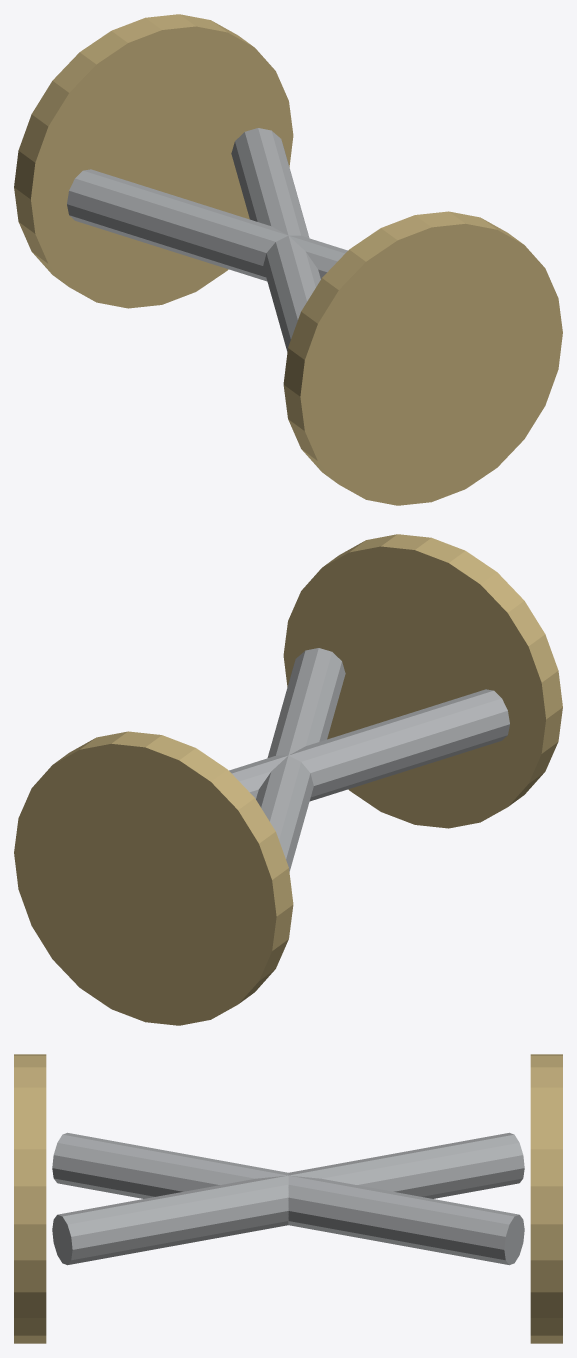
3 renders of one model, top to bottom at view 1: azimuth 30°, elevation 25°; view 2: azimuth 150°, elevation 25°; view 3: azimuth 270°, elevation 25°, orthographic. The views are drawn at different scales.
Parts seen in each view (by area): view 1: geometry_0; view 2: geometry_0; view 3: geometry_0.
Boxes of the visible parts, x1,y1,x2,y2 form: geometry_0: (14,14,562,505); geometry_0: (14,534,562,1025); geometry_0: (14,1054,562,1343).
Size of the model in its own units: 0.09 by 0.09 by 0.17.
